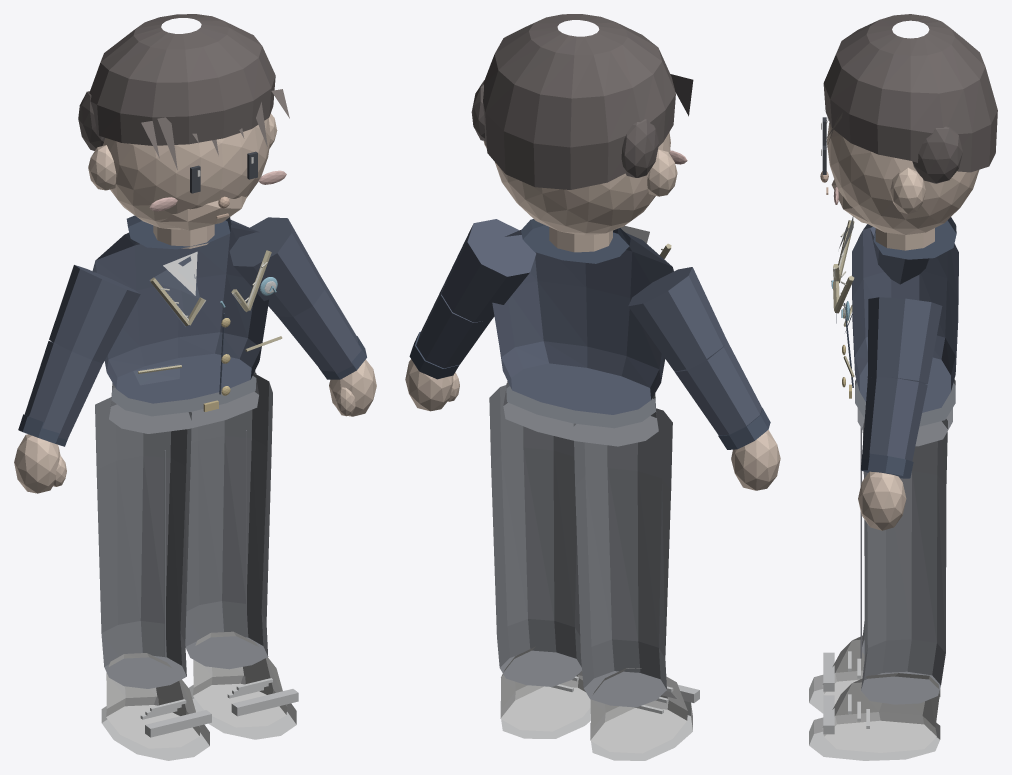
Rendered from preset_school_uniform.glb.
3 renders of one model, left to right at view 1: azimuth 30°, elevation 25°; view 2: azimuth 150°, elevation 25°; view 3: azimuth 270°, elevation 25°, orthographic. The views are drawn at different scales.
Visible parts, largest first — view 1: bottom_uniform_Leg_R, bottom_uniform_Leg_L, core_HairCap, top_blazer_Torso, top_blazer_Sleeve_R, core_Head, top_blazer_Sleeve_L, core_Shoe_R, core_Shoe_L, bottom_uniform_Waist, core_Hand_R, bottom_uniform_Belt (+14 smaller); view 2: core_HairCap, bottom_uniform_Leg_R, top_blazer_Torso, bottom_uniform_Leg_L, top_blazer_Sleeve_R, top_blazer_Sleeve_L, core_Head, core_Shoe_R, core_Shoe_L, bottom_uniform_Waist, core_HairSide, bottom_uniform_Belt (+7 smaller); view 3: core_HairCap, bottom_uniform_Leg_L, top_blazer_Sleeve_L, top_blazer_Torso, core_Shoe_L, core_Head, core_Hand_L, core_Shoe_R, core_HairSide, top_blazer_BackCollar, core_Ears, top_blazer_Sleeve_R (+7 smaller).
Part boxes in pixels (x1,y1,x2,y2): bottom_uniform_Leg_R: [95, 397, 191, 688]; bottom_uniform_Leg_L: [185, 374, 272, 669]; core_HairCap: [89, 14, 275, 145]; top_blazer_Torso: [92, 220, 269, 403]; top_blazer_Sleeve_R: [24, 265, 140, 439]; core_Head: [102, 118, 270, 229]; top_blazer_Sleeve_L: [229, 217, 361, 373]; core_Shoe_R: [101, 653, 211, 760]; core_Shoe_L: [189, 631, 298, 739]; bottom_uniform_Waist: [109, 371, 258, 433]; core_Hand_R: [14, 434, 66, 493]; bottom_uniform_Belt: [111, 373, 256, 416]; core_HairCap: [483, 14, 675, 189]; bottom_uniform_Leg_R: [573, 408, 672, 707]; top_blazer_Torso: [492, 230, 673, 414]; bottom_uniform_Leg_L: [489, 385, 581, 686]; top_blazer_Sleeve_R: [628, 267, 761, 435]; top_blazer_Sleeve_L: [416, 219, 535, 368]; core_Head: [495, 132, 670, 235]; core_Shoe_R: [590, 668, 699, 760]; core_Shoe_L: [500, 646, 590, 738]; bottom_uniform_Waist: [503, 381, 658, 446]; core_HairSide: [471, 80, 658, 177]; bottom_uniform_Belt: [506, 383, 655, 428]; core_HairCap: [823, 14, 997, 172]; bottom_uniform_Leg_L: [861, 419, 947, 704]; top_blazer_Sleeve_L: [861, 297, 942, 461]; top_blazer_Torso: [852, 224, 958, 412]; core_Shoe_L: [809, 673, 940, 760]; core_Head: [826, 122, 979, 234]; core_Hand_L: [858, 471, 906, 530]; core_Shoe_R: [809, 635, 940, 713]; core_HairSide: [912, 126, 962, 183]; top_blazer_BackCollar: [873, 217, 956, 259]; core_Ears: [890, 167, 925, 213]; top_blazer_Sleeve_R: [870, 227, 929, 284].
Size of the model in its own units: 0.772 by 1.43 by 0.3508.
